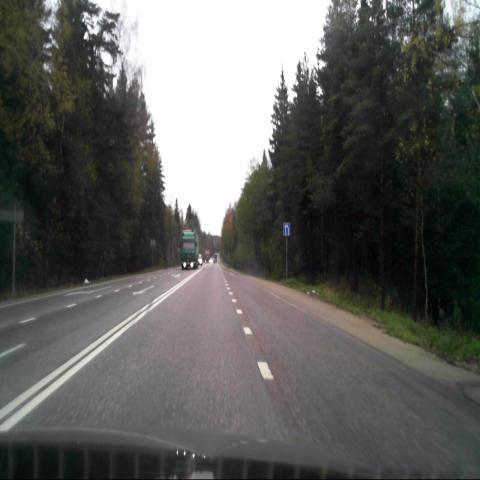5_15_5: (283, 222, 290, 235)
